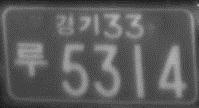1: (124, 42, 152, 98)
3: (92, 43, 120, 98), (102, 12, 123, 40), (125, 12, 144, 41)
4: (157, 44, 187, 98)
5: (61, 43, 89, 96)
경기_O: (53, 13, 100, 37)
루: (14, 41, 49, 78)
